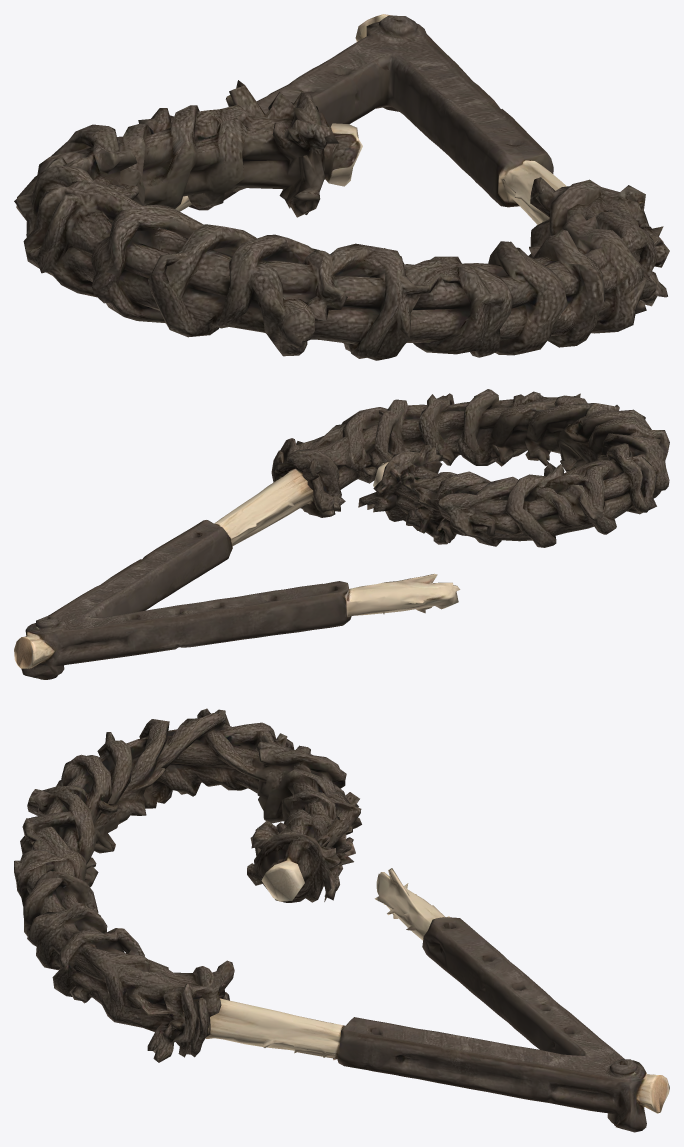
File: cut-rescue-rope.glb
3 views of the same model, one above another, from view 1: azimuth 30°, elevation 25°; view 2: azimuth 150°, elevation 25°; view 3: azimuth 270°, elevation 25° (orthographic). The views are drawn at different scales.
Visible parts, largest first — view 1: tripo_node_cdd99b86-7080-4cb1-818e-86624cc8f063; view 2: tripo_node_cdd99b86-7080-4cb1-818e-86624cc8f063; view 3: tripo_node_cdd99b86-7080-4cb1-818e-86624cc8f063.
Boxes of the visible parts, x1,y1,x2,y2 form: tripo_node_cdd99b86-7080-4cb1-818e-86624cc8f063: (14, 14, 669, 360); tripo_node_cdd99b86-7080-4cb1-818e-86624cc8f063: (14, 389, 669, 679); tripo_node_cdd99b86-7080-4cb1-818e-86624cc8f063: (14, 708, 669, 1132).
Bounding box in the file's own units: 0.8688 × 0.344 × 1.
Materials: 1 (1 with a texture image).
